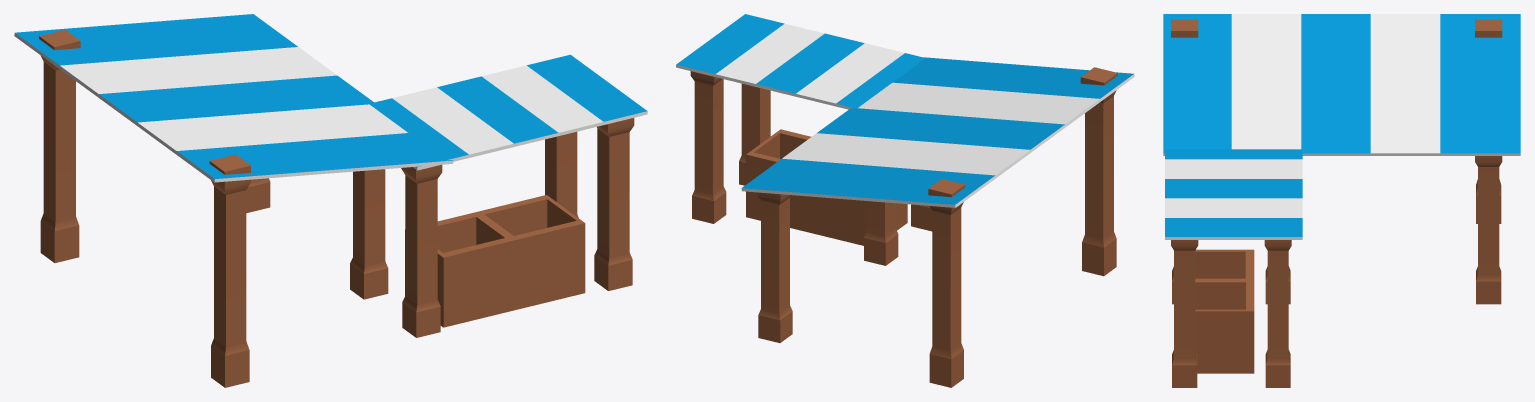
The model's file is model_shopStand2.fbx.
The picture shows the model from 3 angles, left to right: view 1: azimuth 30°, elevation 25°; view 2: azimuth 150°, elevation 25°; view 3: azimuth 270°, elevation 25°; orthographic projection. The views are drawn at different scales.
Parts seen in each view (by area): view 1: pasted__pCube7; view 2: pasted__pCube7; view 3: pasted__pCube7.
Boxes of the visible parts, x1,y1,x2,y2 form: pasted__pCube7: [14, 14, 647, 387]; pasted__pCube7: [676, 14, 1134, 387]; pasted__pCube7: [1163, 14, 1520, 387].
Bounding box in the file's own units: 6.49 × 3.1 × 5.18.
